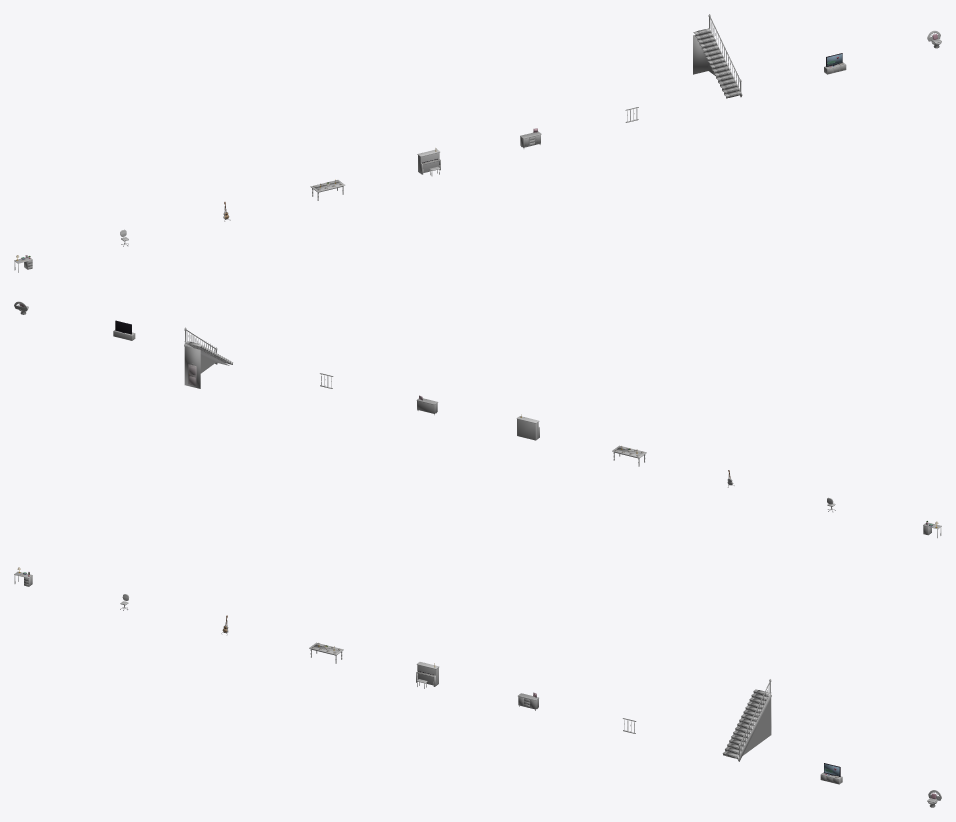
Rendered from bld_home_house.glb.
The picture shows the model from 3 angles, top to bottom: view 1: azimuth 30°, elevation 25°; view 2: azimuth 150°, elevation 25°; view 3: azimuth 330°, elevation 25°; orthographic projection.
Visible parts, largest first — view 1: INST_bld_home_house_stairs_s_paint, INST_bld_home_house_stairs_s_wood, INST_bld_home_house_stairs_s_runner; view 2: INST_bld_home_house_stairs_s_paint; view 3: INST_bld_home_house_stairs_s_paint, INST_bld_home_house_stairs_s_runner, INST_bld_home_house_stairs_s_wood.
Boxes of the visible parts, x1,y1,x2,y2 form: INST_bld_home_house_stairs_s_paint: [693, 18, 742, 98]; INST_bld_home_house_stairs_s_wood: [693, 14, 741, 96]; INST_bld_home_house_stairs_s_runner: [696, 29, 738, 97]; INST_bld_home_house_stairs_s_paint: [184, 331, 232, 388]; INST_bld_home_house_stairs_s_paint: [723, 682, 771, 761]; INST_bld_home_house_stairs_s_runner: [726, 690, 767, 758]; INST_bld_home_house_stairs_s_wood: [722, 679, 771, 758].
Size of the model in its own units: 73.14 by 4.56 by 5.48.
